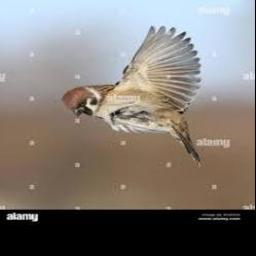Sparrow: (61, 26, 200, 168)
